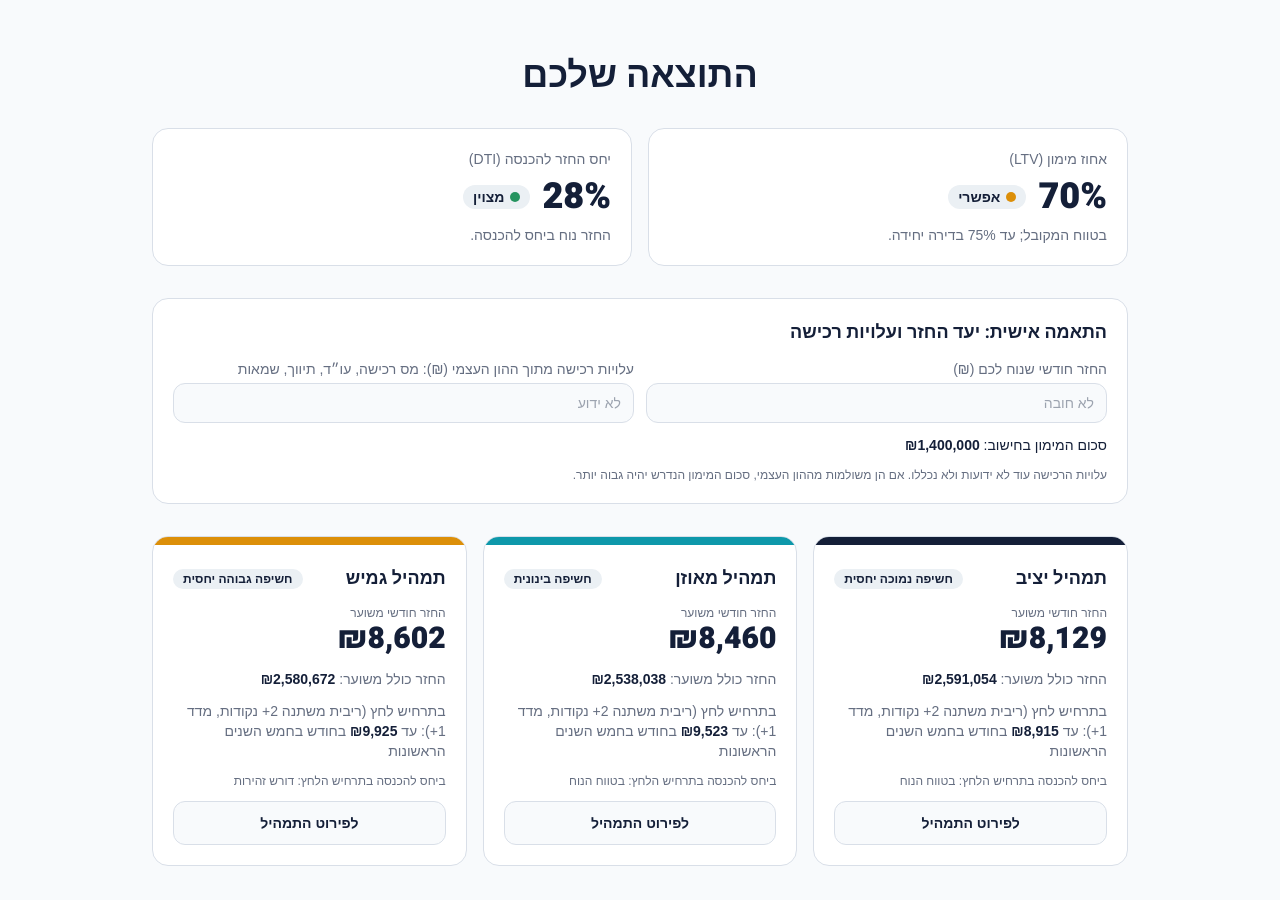
Test: new mortgage: target payment and purchase costs (#52, #57 item 3) › LTV above the cap for the deal type is stated, not hidden
This screenshot has width=1280, height=900.
Type "150,000" into the field labelled "עלויות רכישה מתוך ההון העצמי".
click(404, 403); type("150,000")  # box [173,383,634,423]
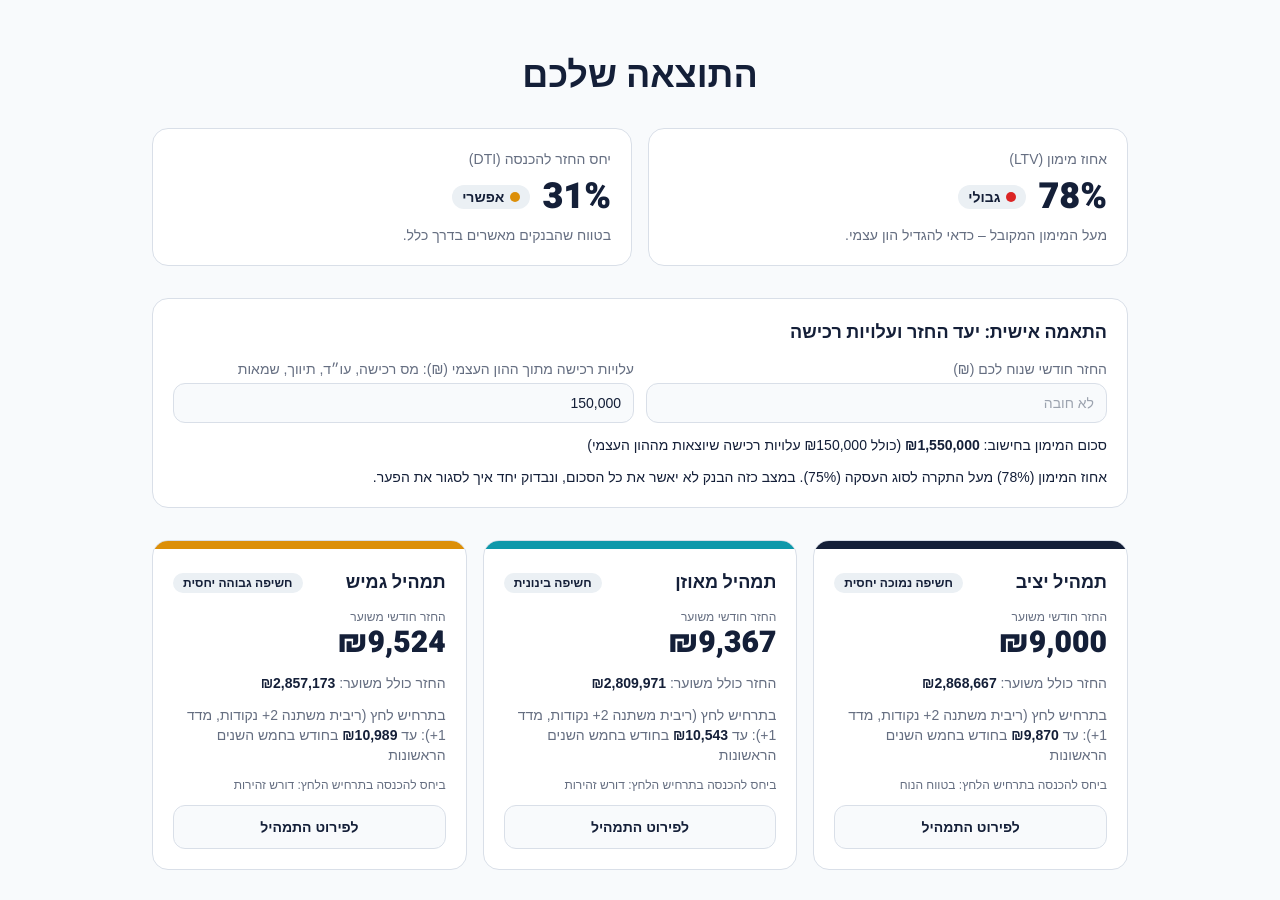
Expected: the text "מעל התקרה לסוג העסקה (75%)" is shown, [373,469,1107,485]
